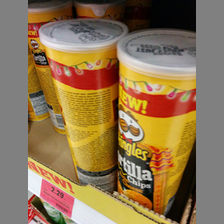chips: (116, 27, 197, 215), (39, 17, 119, 190)
